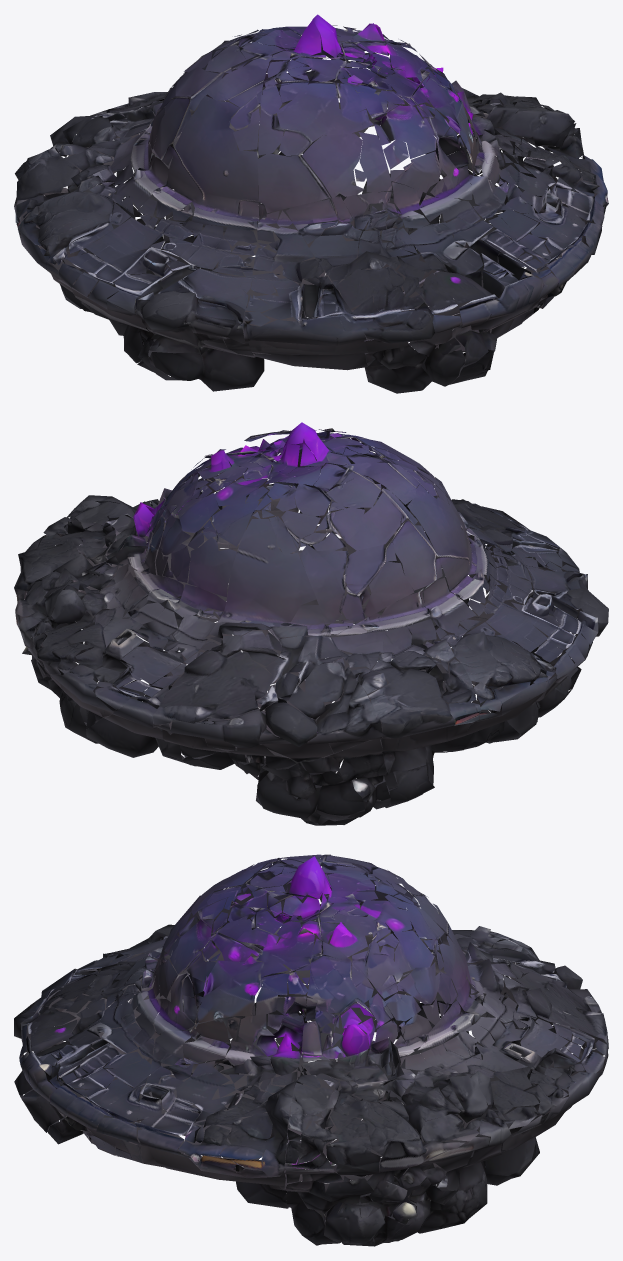
The model's file is TripoCrashedSaucer.fbx.
3 views of the same model, one above another, from view 1: azimuth 30°, elevation 25°; view 2: azimuth 150°, elevation 25°; view 3: azimuth 270°, elevation 25° (orthographic).
Visible parts, largest first — view 1: TripoCrashedSaucer; view 2: TripoCrashedSaucer; view 3: TripoCrashedSaucer.
Part boxes in pixels (<box>): TripoCrashedSaucer: <box>14,14,608,393</box>; TripoCrashedSaucer: <box>14,422,608,825</box>; TripoCrashedSaucer: <box>14,854,608,1246</box>.
Size of the model in its own units: 6.11 by 6.15 by 3.8.
1 material, 1 textured.
